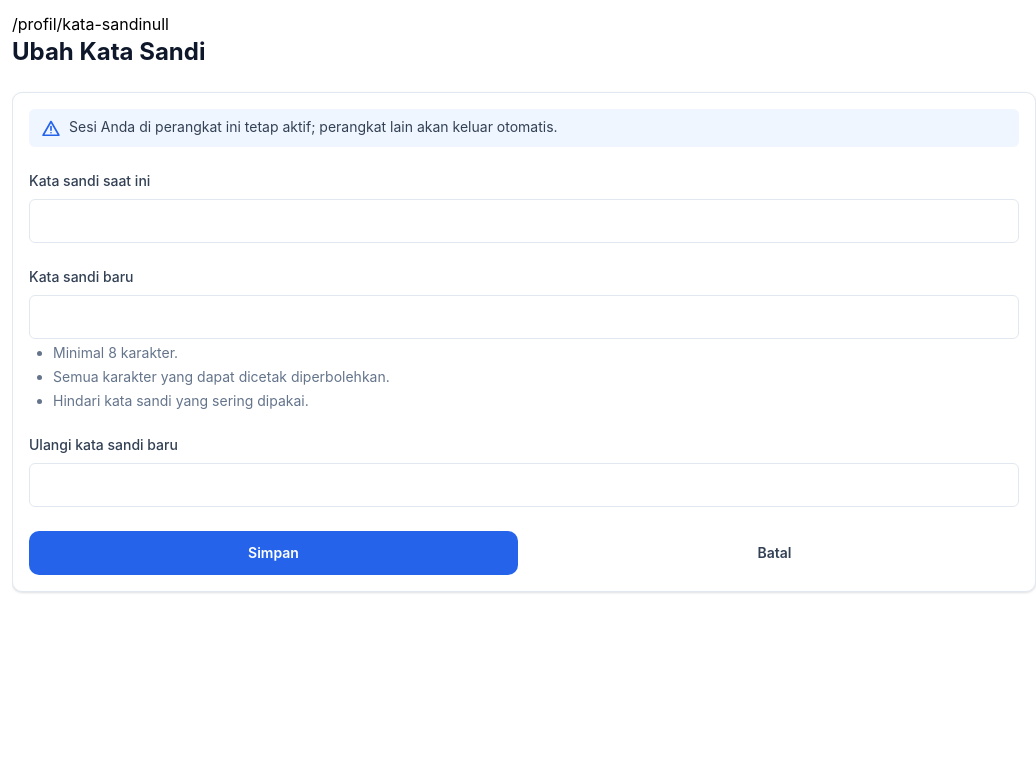
it: ChangePasswordPage › blocks a new password that is shorter than the minimum
Type "old-secret-1" into the password field labelled "Kata sandi saat ini".
click(524, 221); type("old-secret-1")  # box [29,199,1019,243]
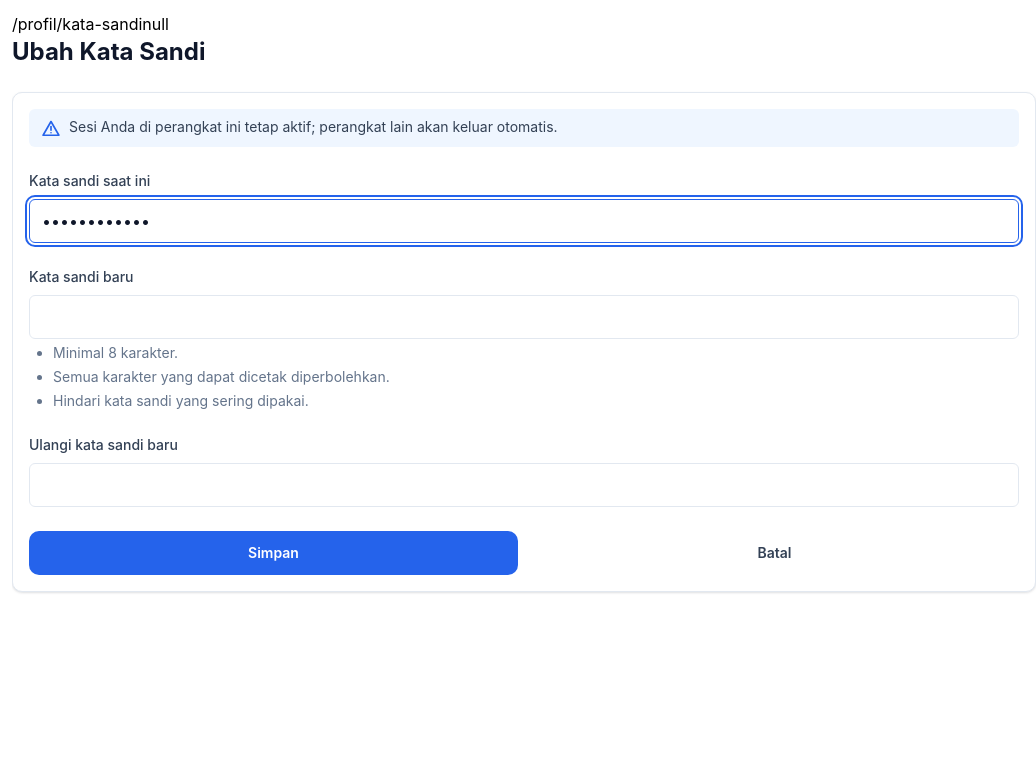
Type "short" into the password field labelled "Kata sandi baru".
click(524, 317); type("short")  # box [29,295,1019,339]
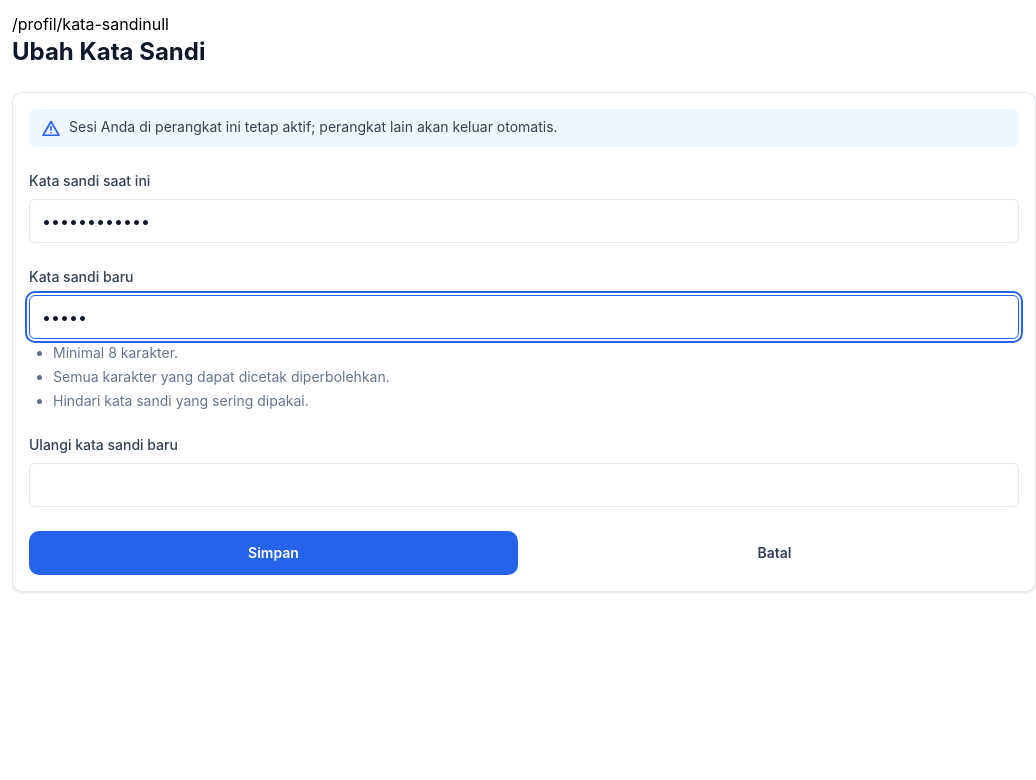
Type "short" into the password field labelled "Ulangi kata sandi baru".
click(524, 485); type("short")  # box [29,463,1019,507]
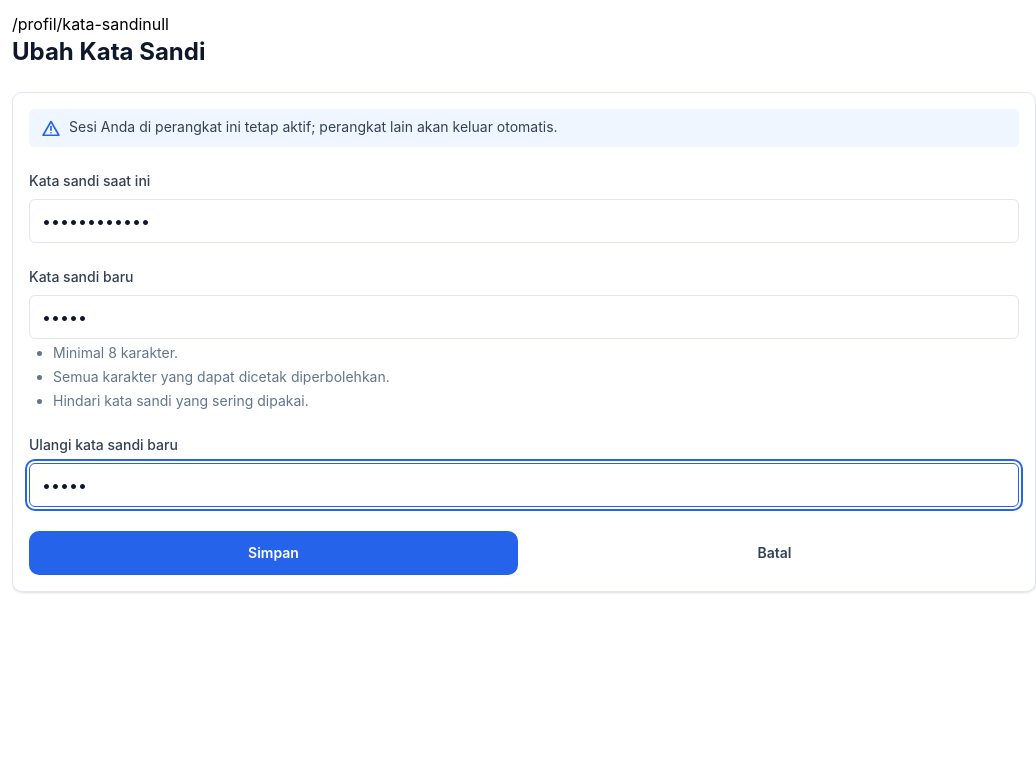
Click the button "Simpan".
click(274, 553)  # box [29,531,518,575]
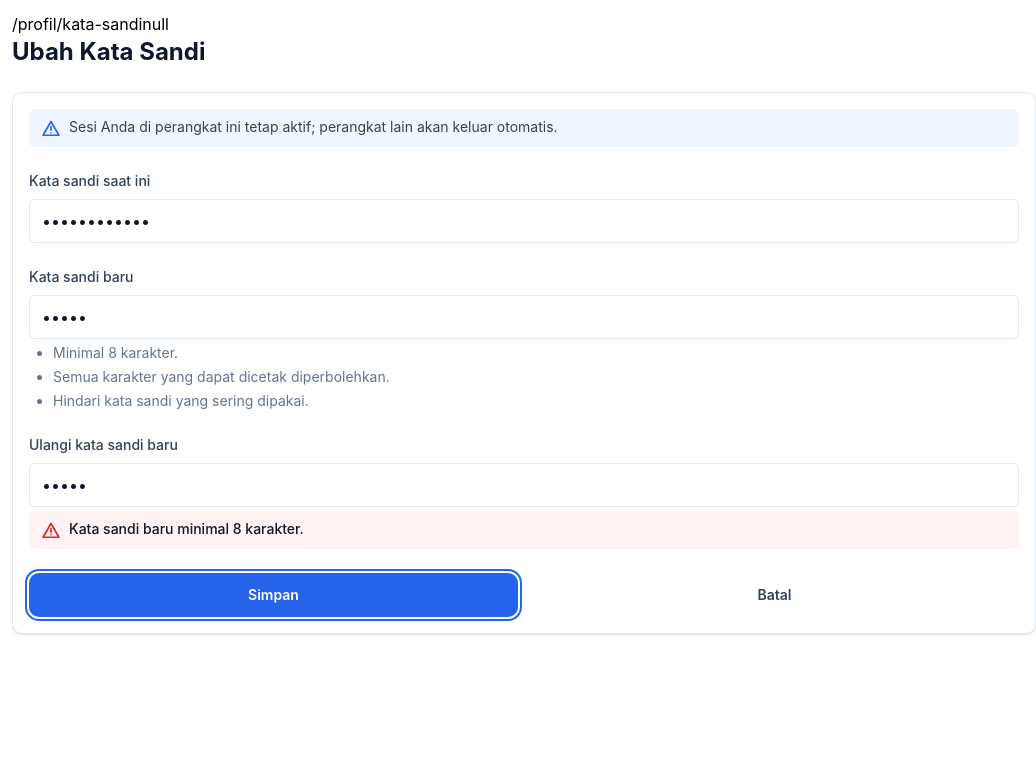
Now the message with test id "password-error" reads "Kata sandi baru minimal 8 karakter.", box [69,520,304,537]
